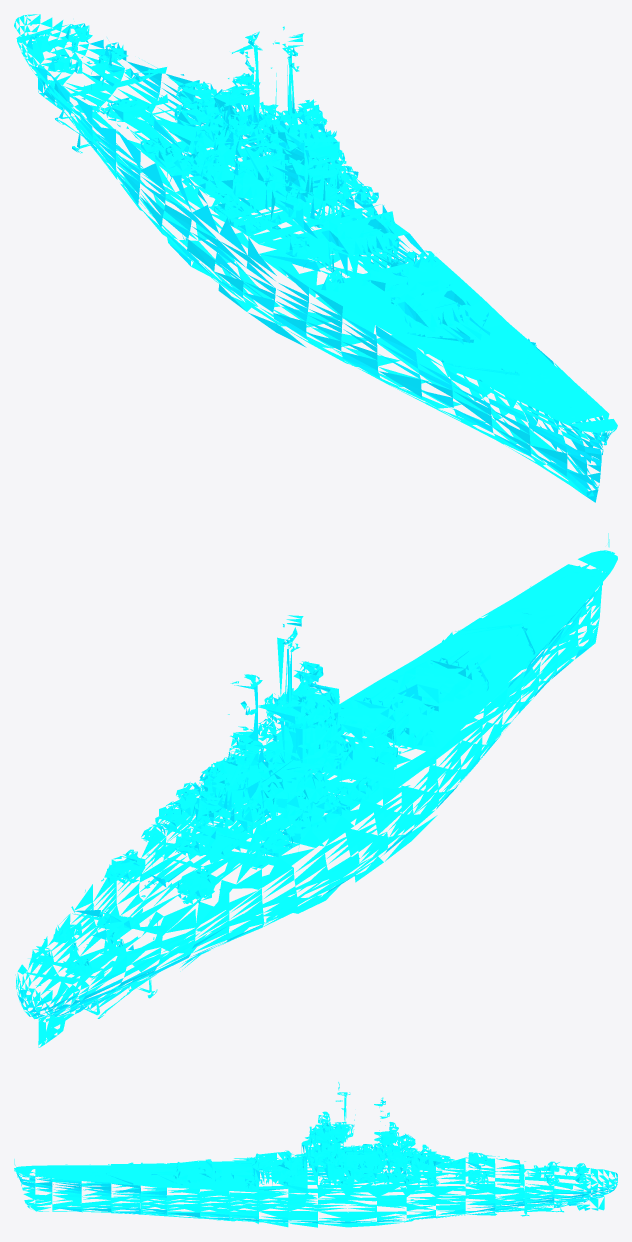
Rendered from Jean_Bart.glb.
3 renders of one model, top to bottom at view 1: azimuth 30°, elevation 25°; view 2: azimuth 150°, elevation 25°; view 3: azimuth 270°, elevation 25°, orthographic. The views are drawn at different scales.
Bounding box in the file's own units: 2.37 × 4.05 × 16.5.
